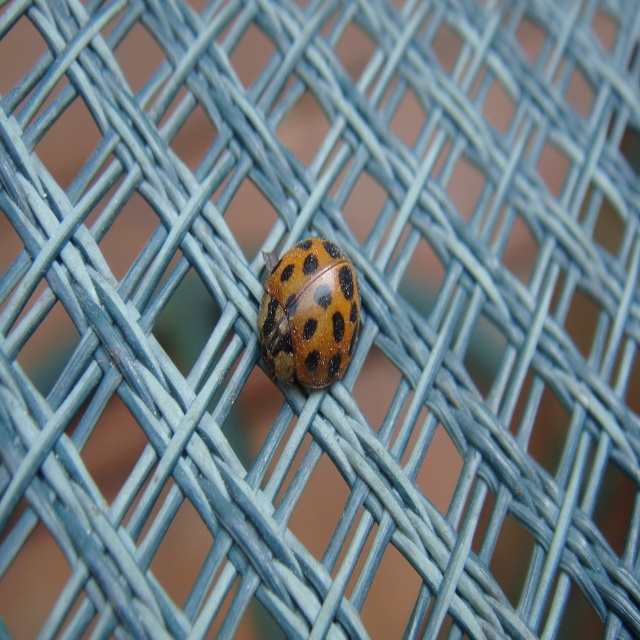Ladybug: (253, 231, 365, 388)
